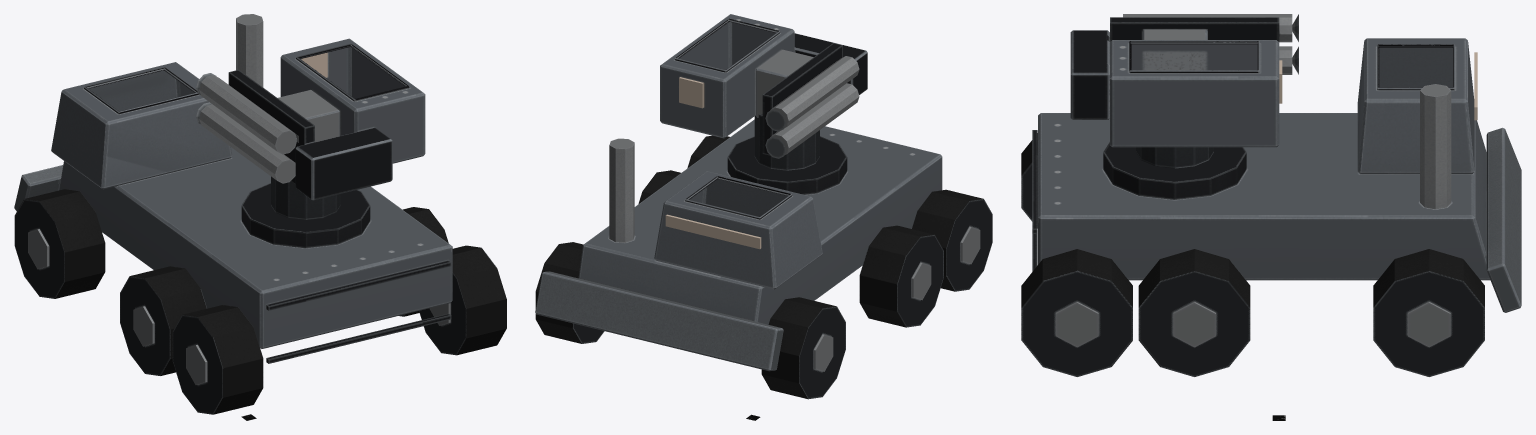
Rendered from chs_hornet.fbx.
3 views of the same model, side by side, from view 1: azimuth 30°, elevation 25°; view 2: azimuth 150°, elevation 25°; view 3: azimuth 270°, elevation 25° (orthographic). The views are drawn at different scales.
Parts seen in each view (by area): view 1: base_bar, launcher_bar, turret_bar; view 2: base_bar, launcher_bar, turret_bar; view 3: base_bar, launcher_bar, turret_bar.
Boxes of the visible parts, <box> form: base_bar: <box>14,14,506,414</box>; launcher_bar: <box>196,38,425,200</box>; turret_bar: <box>271,176,340,219</box>; base_bar: <box>535,119,992,399</box>; launcher_bar: <box>660,14,867,158</box>; turret_bar: <box>754,114,819,170</box>; base_bar: <box>1021,38,1521,376</box>; launcher_bar: <box>1070,14,1298,147</box>; turret_bar: <box>1136,147,1213,168</box>.
Bounding box in the file's own units: 568 × 674 × 767.
Materials: 2 (2 with a texture image).
